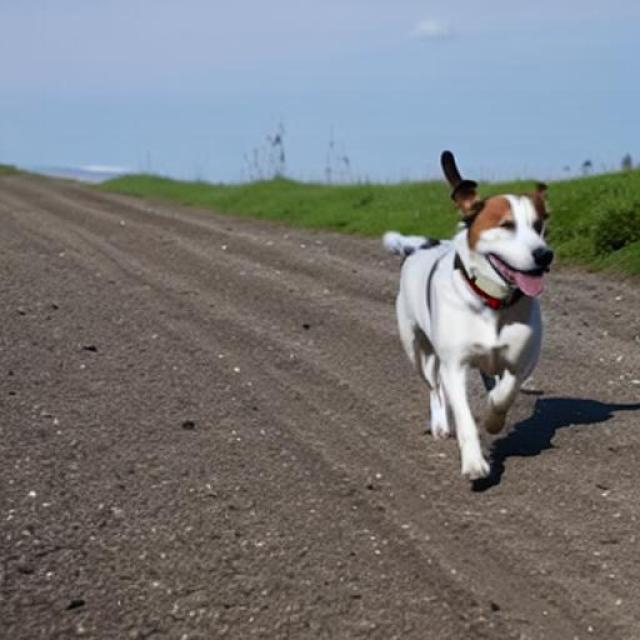Dog: (381, 149, 554, 482)
